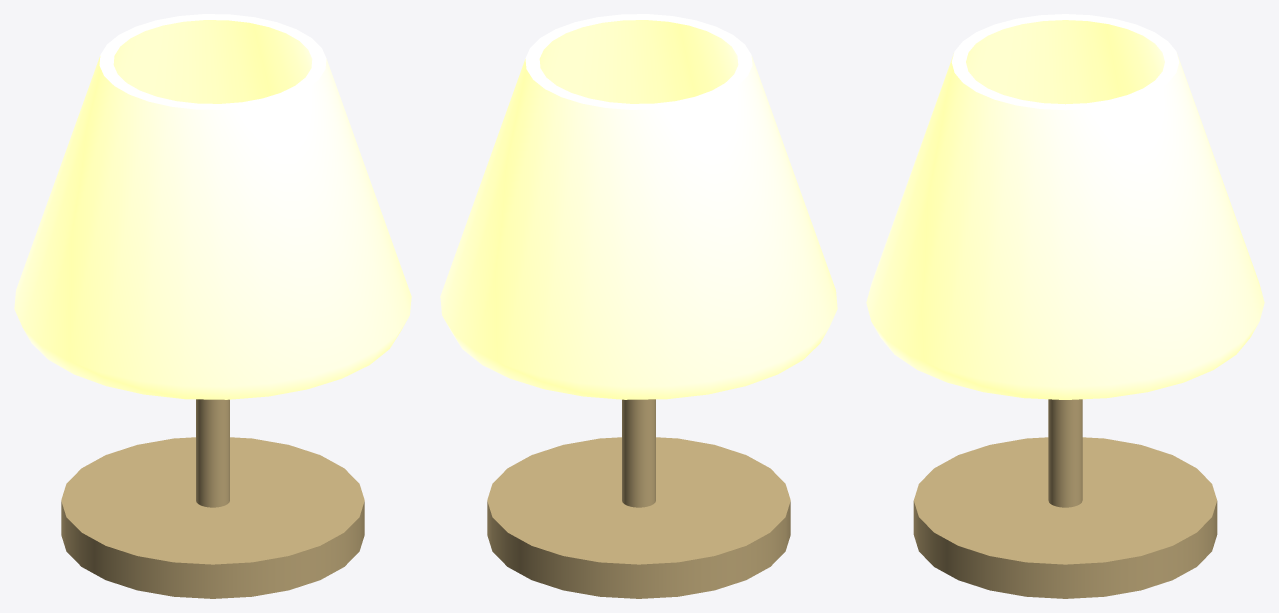
File: paranormal-investigation-house-lamp-luminous-dedff248__26864.glb
The picture shows the model from 3 angles, left to right: view 1: azimuth 30°, elevation 25°; view 2: azimuth 150°, elevation 25°; view 3: azimuth 270°, elevation 25°; orthographic projection.
Visible parts, largest first — view 1: lamp-luminous; view 2: lamp-luminous; view 3: lamp-luminous.
Part boxes in pixels (<box>): lamp-luminous: <box>14,14,411,598</box>; lamp-luminous: <box>440,14,837,598</box>; lamp-luminous: <box>866,14,1264,598</box>.
Bounding box in the file's own units: 0.42 × 0.55 × 0.42.
